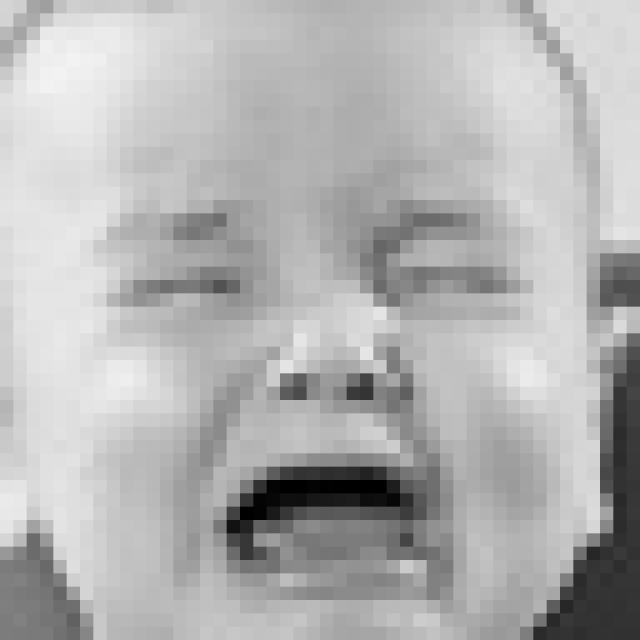sad: (75, 190, 546, 622)
